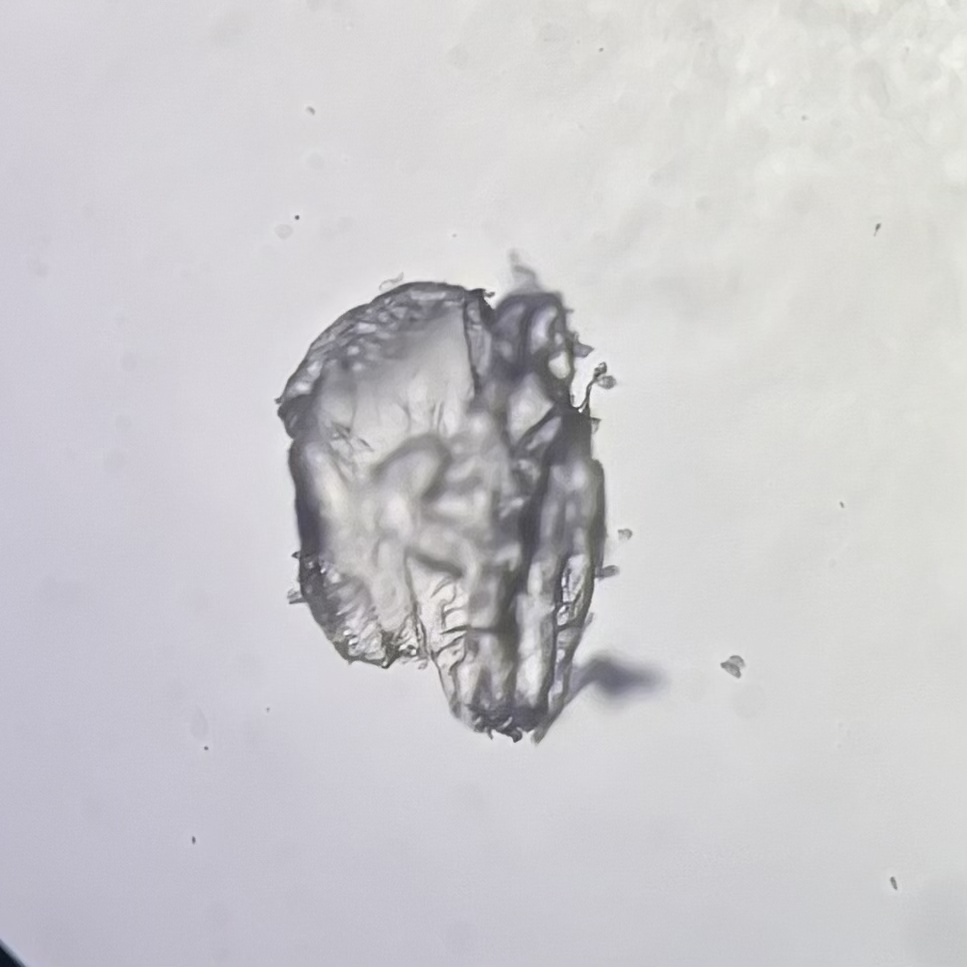microplastic: (279, 249, 673, 745), (719, 653, 746, 679)
